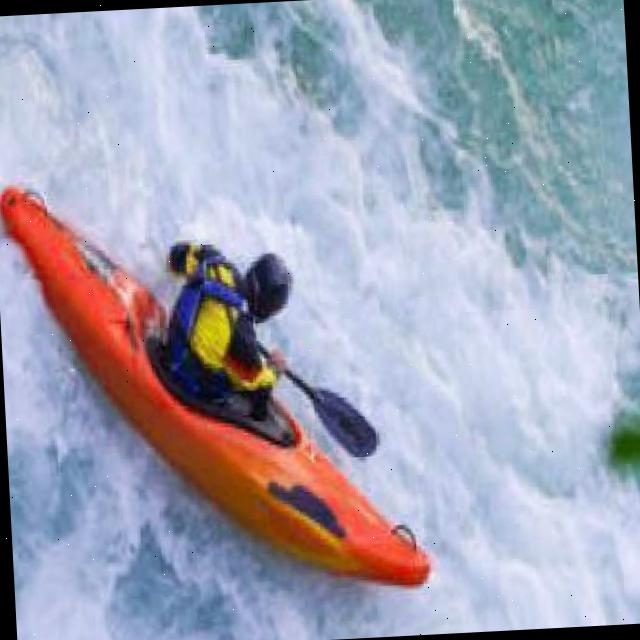kayak: (1, 197, 430, 584)
